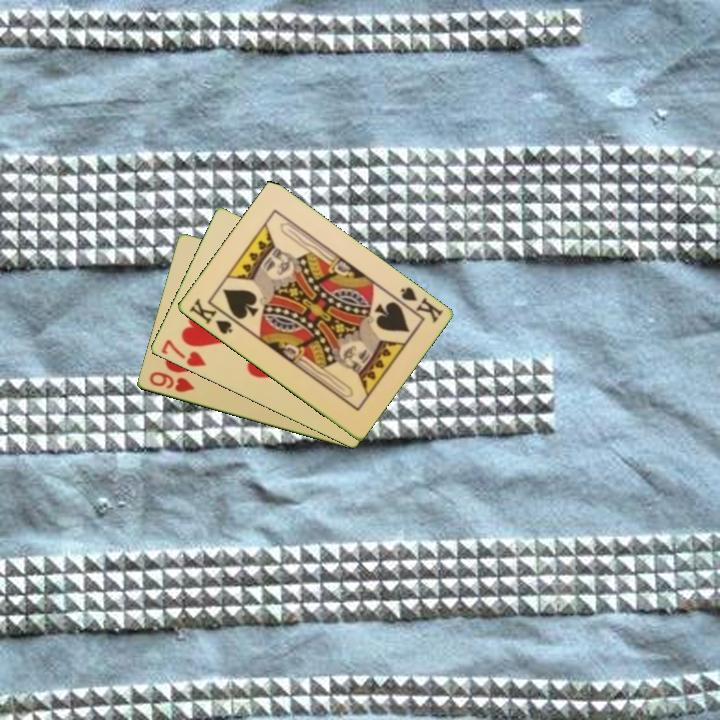7h: (158, 336, 209, 370)
9h: (145, 368, 197, 395)
Ks: (390, 283, 446, 326), (185, 295, 240, 337)
